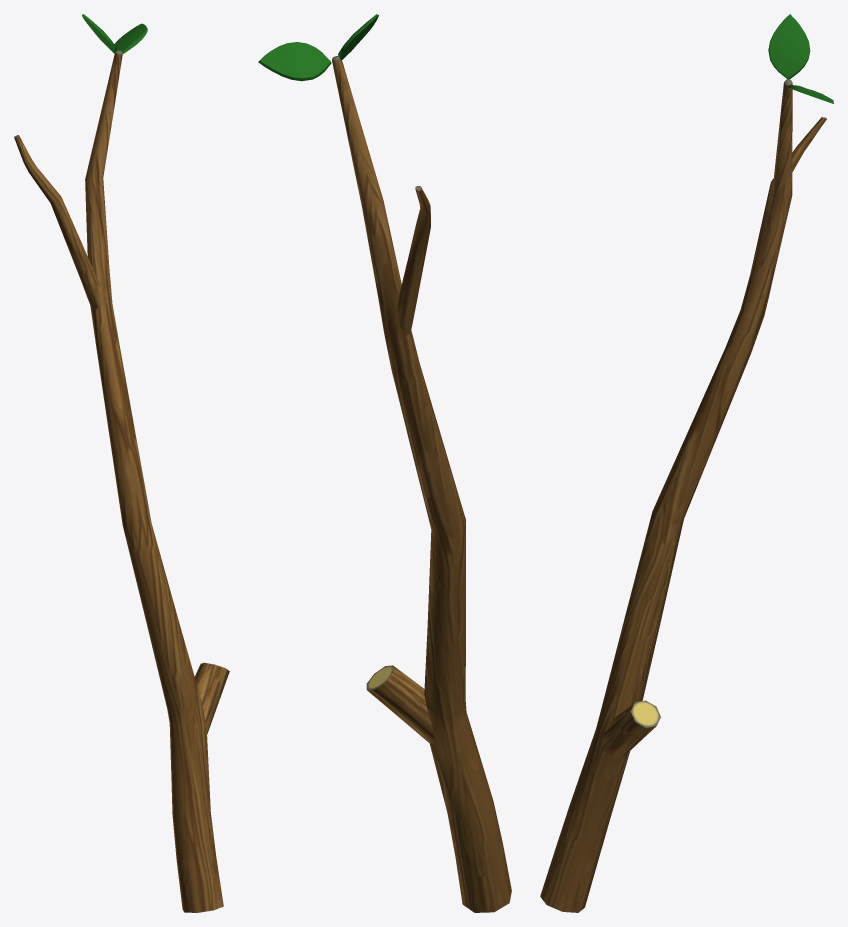
File: Agent_Handheld_FishingRod.fbx
The picture shows the model from 3 angles, left to right: view 1: azimuth 30°, elevation 25°; view 2: azimuth 150°, elevation 25°; view 3: azimuth 270°, elevation 25°; orthographic projection. The views are drawn at different scales.
Parts seen in each view (by area): view 1: FishingRod_LV1; view 2: FishingRod_LV1; view 3: FishingRod_LV1.
Part boxes in pixels (left/top/right/bottom): FishingRod_LV1: left=14, top=14, right=229, bottom=912; FishingRod_LV1: left=258, top=14, right=511, bottom=912; FishingRod_LV1: left=540, top=14, right=833, bottom=912.
Size of the model in its own units: 0.291 by 1.73 by 0.5198.
